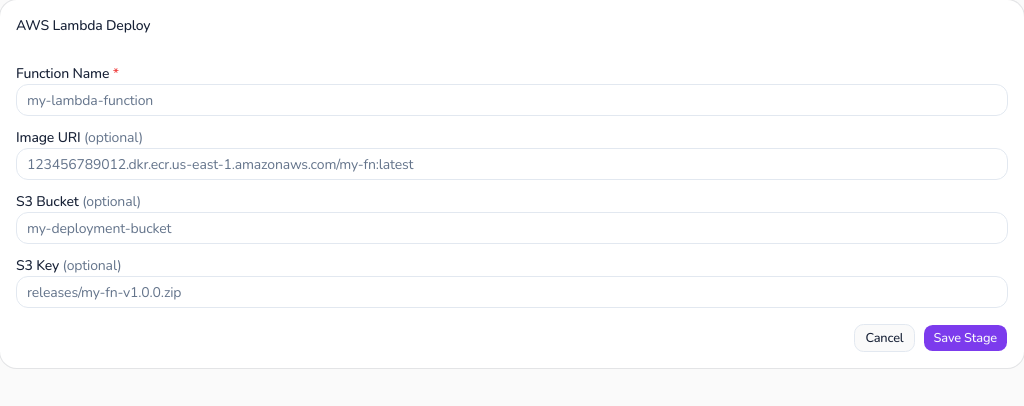
Test: CloudDeployStageCard › aws-lambda › validates functionName as required
Click the button "Save Stage".
click(965, 338)  # box [922,324,1008,352]
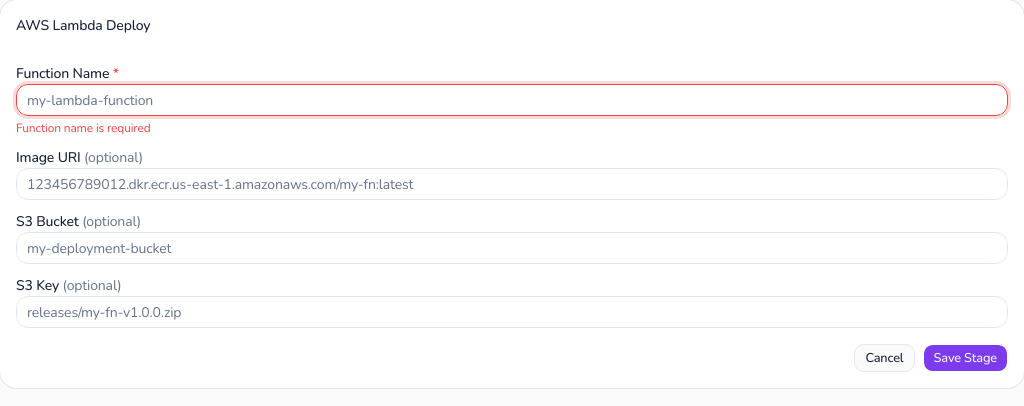
Expected: the text "Function name is required" is shown, [16,120,150,136]
